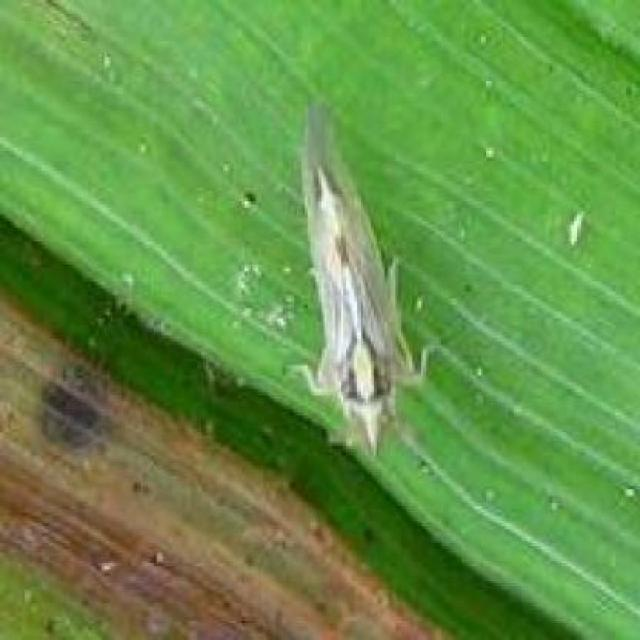brown-planthopper: (291, 101, 414, 462)
